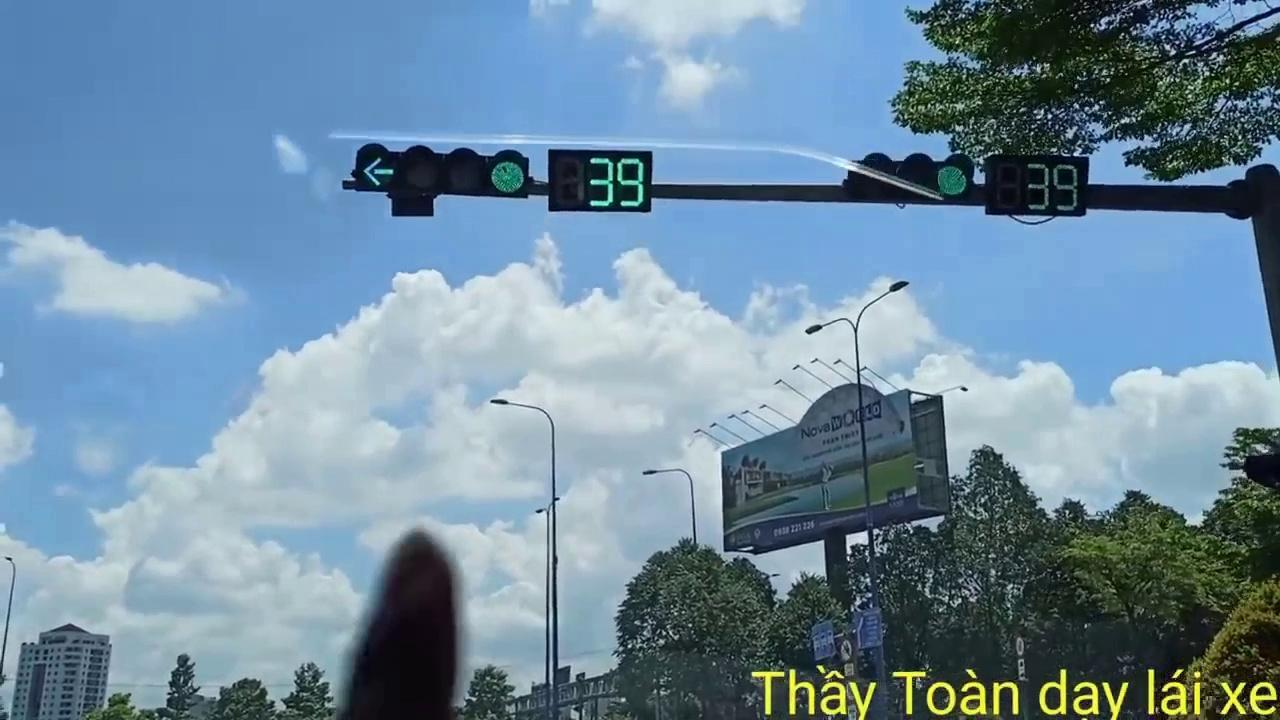Chỉ hướng đường: (852, 610, 882, 648)
Cấm xe máy: (838, 638, 854, 662)
Làn đường cho từng xe: (809, 622, 837, 659)
